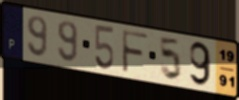5: (158, 35, 183, 82), (94, 24, 115, 71)
9: (189, 41, 213, 88), (56, 20, 80, 64), (26, 15, 49, 59)
F: (120, 27, 150, 76)
